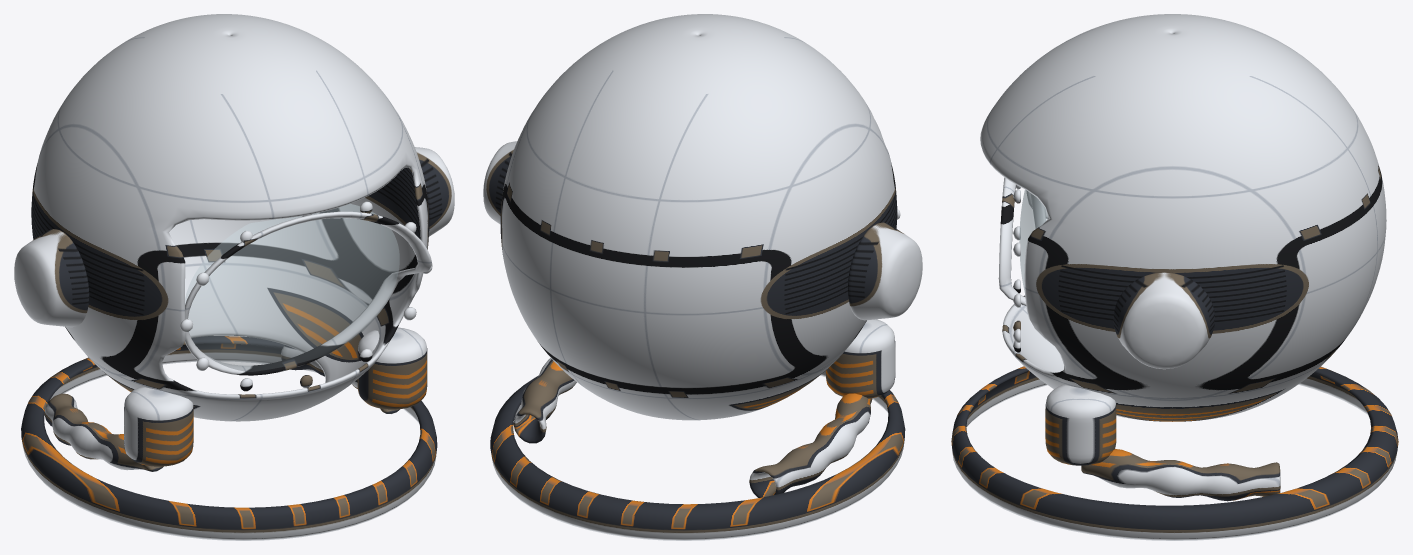
The model's file is atlas-explorer-helmet.glb.
3 renders of one model, left to right at view 1: azimuth 30°, elevation 25°; view 2: azimuth 150°, elevation 25°; view 3: azimuth 270°, elevation 25°, orthographic.
Parts seen in each view (by area): view 1: AtlasExplorerHelmetShell, AtlasVisorBubble; view 2: AtlasExplorerHelmetShell; view 3: AtlasExplorerHelmetShell, AtlasVisorBubble.
Part boxes in pixels (x1,y1,x2,y2): AtlasExplorerHelmetShell: (14, 14, 454, 540); AtlasVisorBubble: (185, 204, 399, 371); AtlasExplorerHelmetShell: (483, 14, 922, 540); AtlasExplorerHelmetShell: (951, 14, 1398, 540); AtlasVisorBubble: (1019, 190, 1047, 338).
Size of the model in its own units: 0.2922 by 0.2803 by 0.2682.
2 materials, 1 textured.
